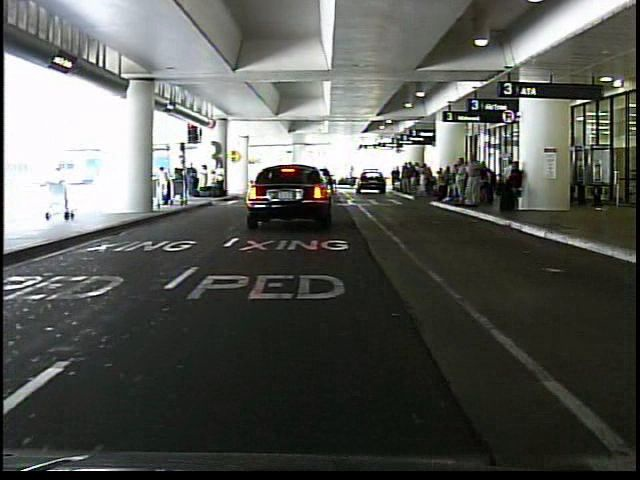person: (462, 150, 483, 212), (153, 165, 173, 219)
